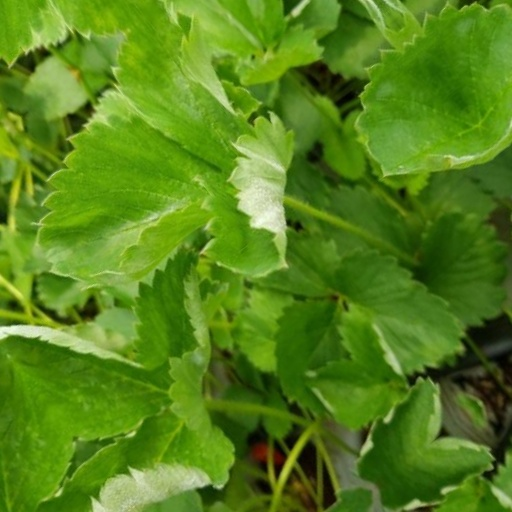Powdery Mildew Leaf: (282, 198, 419, 365), (145, 149, 303, 287), (397, 143, 511, 317), (149, 0, 262, 172), (0, 172, 109, 330), (391, 308, 511, 418), (204, 351, 299, 463)
